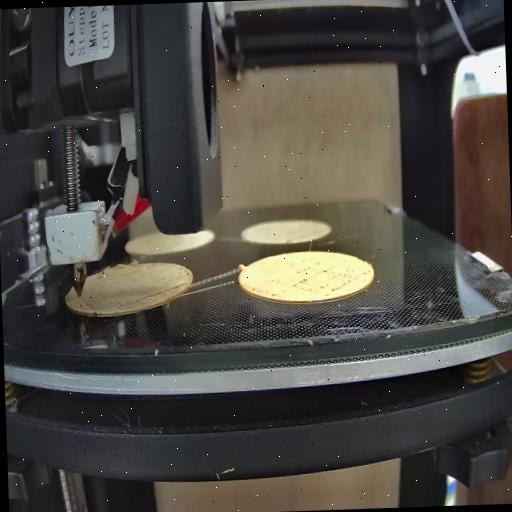under_extrusion: (288, 255, 370, 295), (118, 279, 189, 307), (66, 288, 106, 316), (250, 277, 282, 306)
